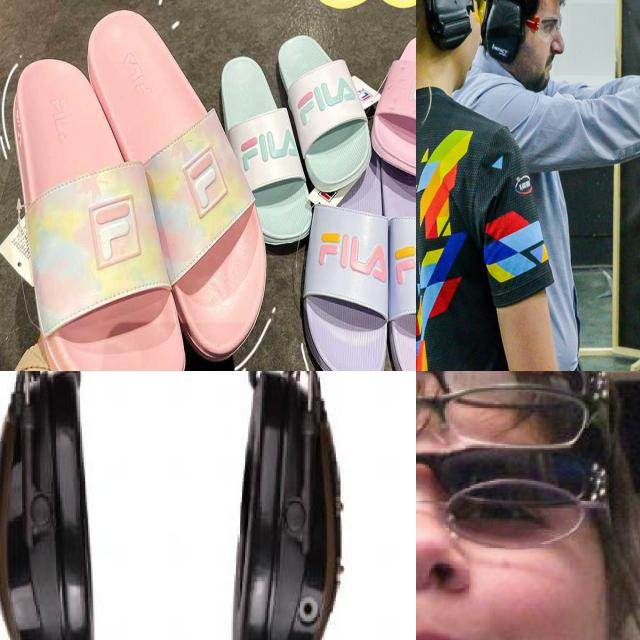Ear-protection: (0, 371, 346, 640), (472, 0, 573, 88), (416, 0, 490, 97)
Sandals: (0, 0, 278, 371), (201, 8, 373, 240), (300, 114, 416, 371), (369, 0, 416, 242)
face_nomask: (416, 479, 575, 640)
glasses: (416, 374, 594, 454), (416, 438, 604, 498), (416, 371, 599, 422)
person: (416, 0, 539, 371)
